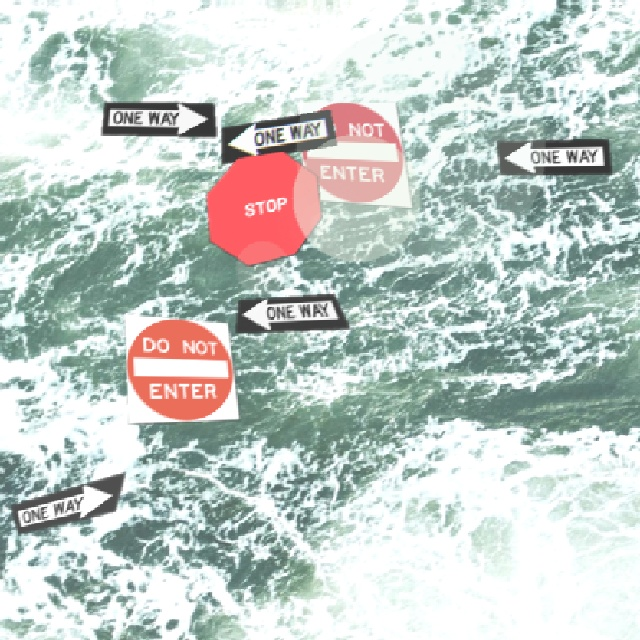DO_NOT_ENTER: (123, 310, 240, 422), (296, 98, 413, 206)
ONE_WAY_ left: (220, 106, 337, 162), (234, 290, 351, 331), (495, 135, 612, 173)
ONE_WAY_ right: (9, 468, 126, 532), (100, 98, 217, 135)
STOP: (205, 148, 322, 264)
